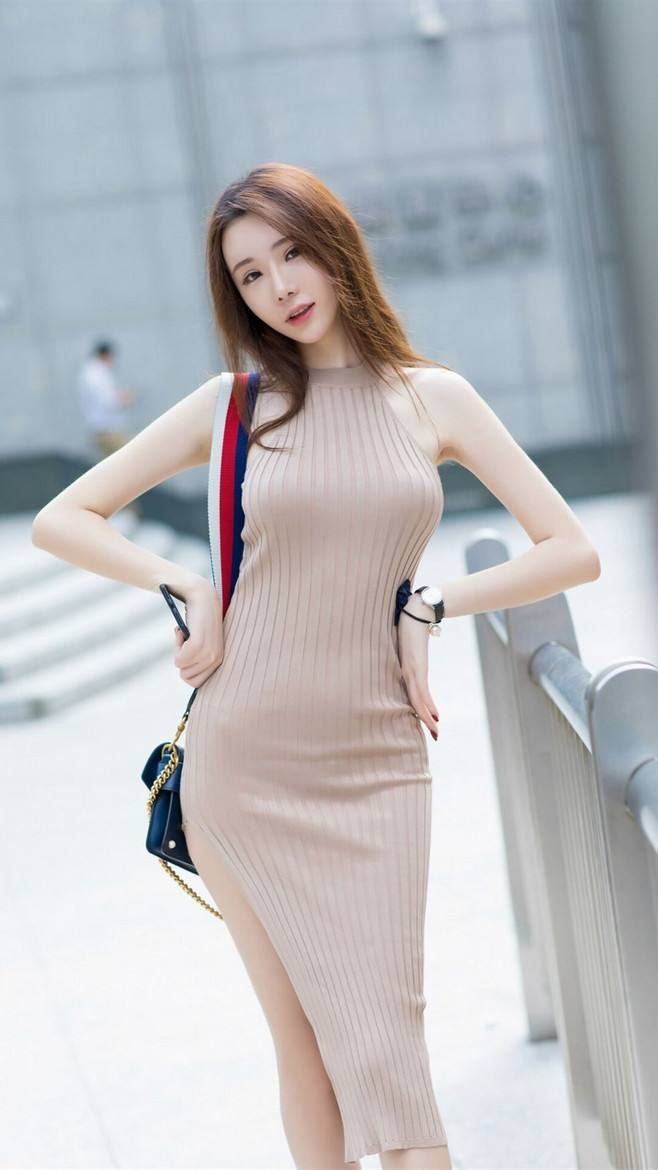person: (145, 198, 523, 1036)
